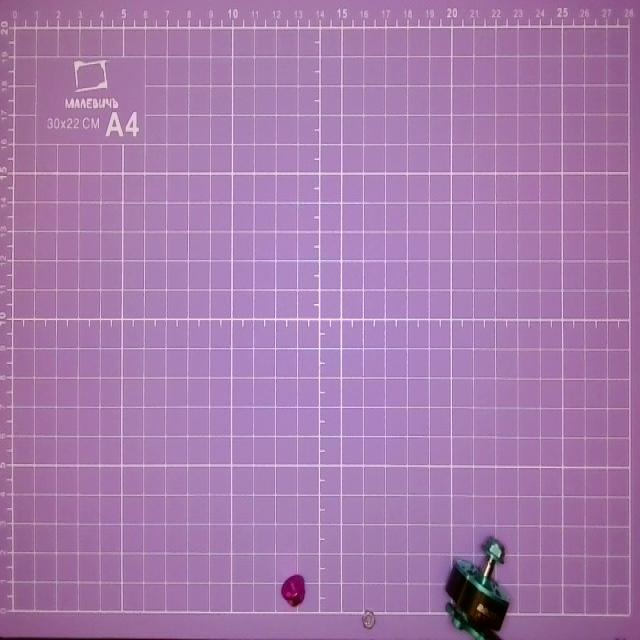motor: (442, 530, 526, 640)
screw_M3: (361, 610, 378, 634)
screw_M5: (277, 570, 312, 613)
